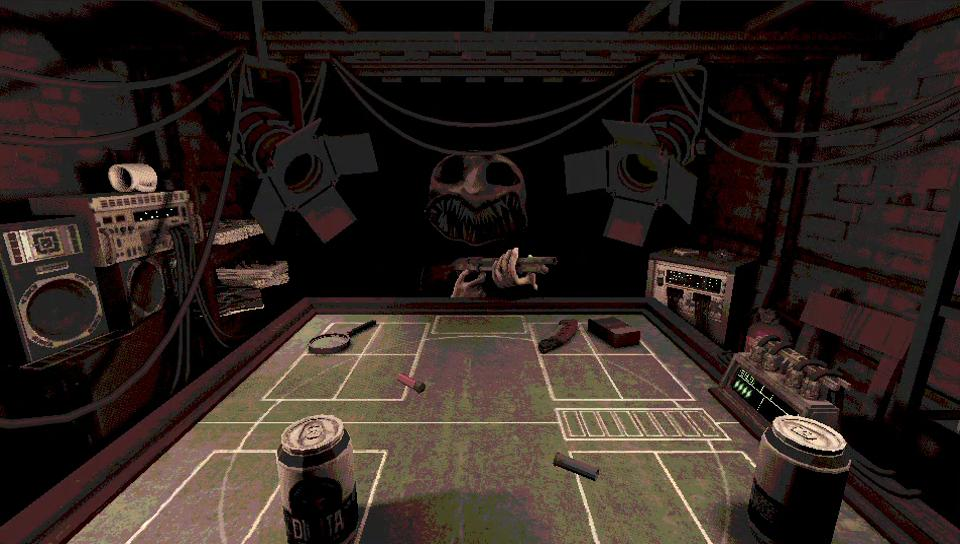ally: (11, 402, 925, 543), (50, 405, 916, 540)
can: (748, 412, 852, 543), (274, 413, 359, 543)
cigar: (587, 315, 642, 346)
doubledamage: (538, 319, 578, 354)
emptyspace: (125, 447, 277, 539), (263, 352, 363, 400), (598, 353, 694, 399), (538, 353, 623, 399), (340, 352, 413, 398), (306, 319, 377, 350), (362, 320, 428, 352)
enemyspace: (195, 302, 753, 418)
